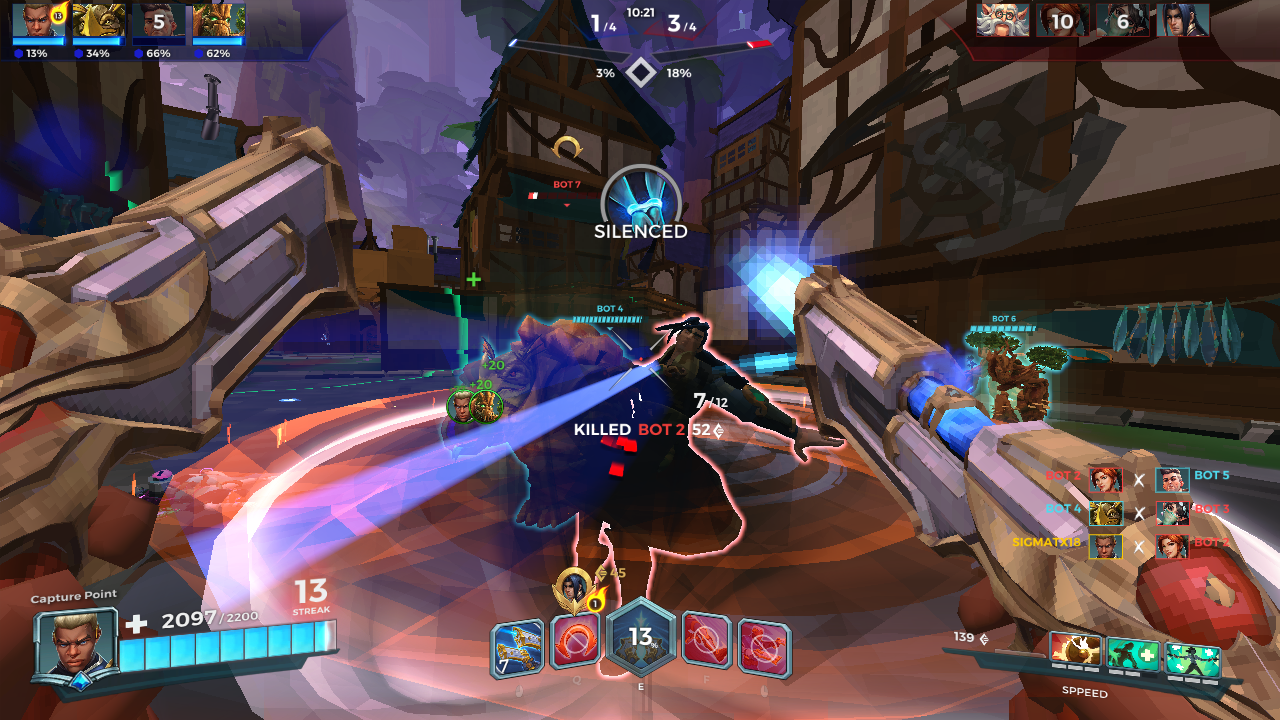model: (619, 305, 724, 590)
